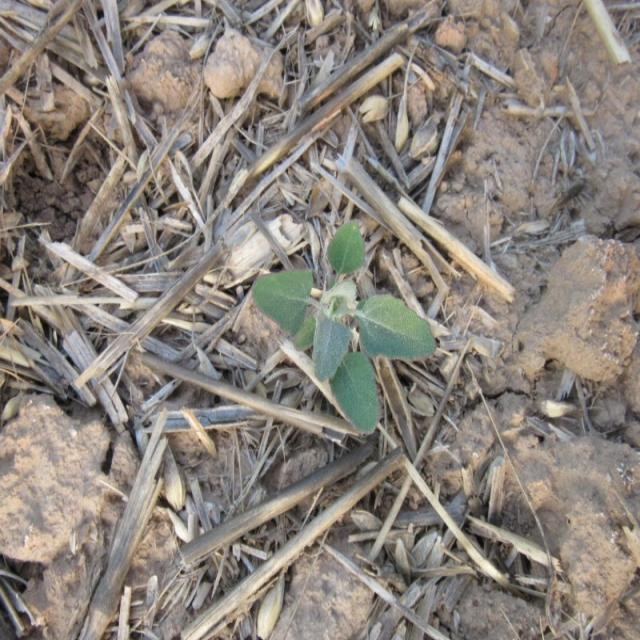ca: (255, 222, 434, 432)
